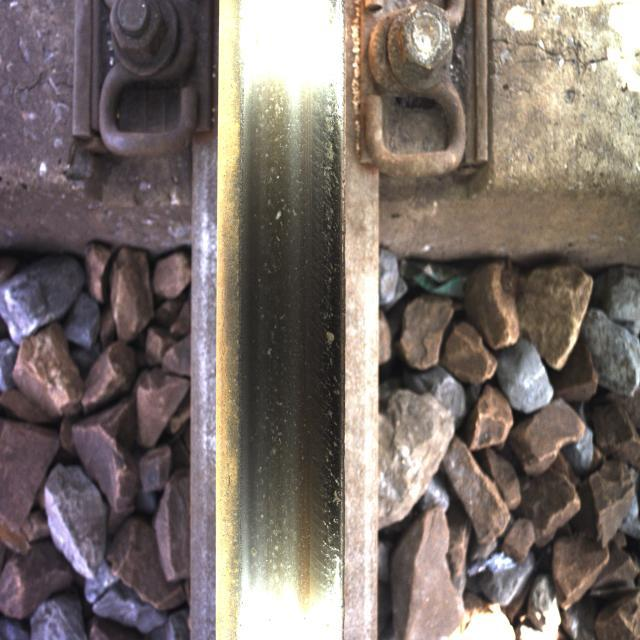normal: (246, 62, 339, 634)
